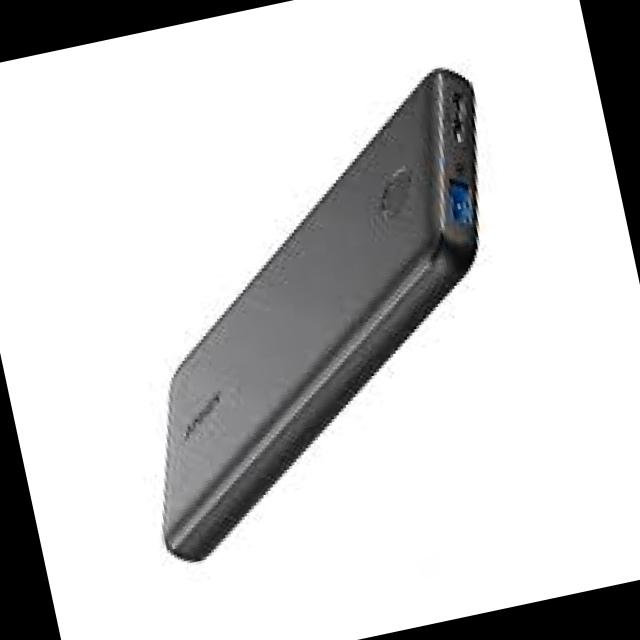portable-charger: (77, 53, 565, 570)
